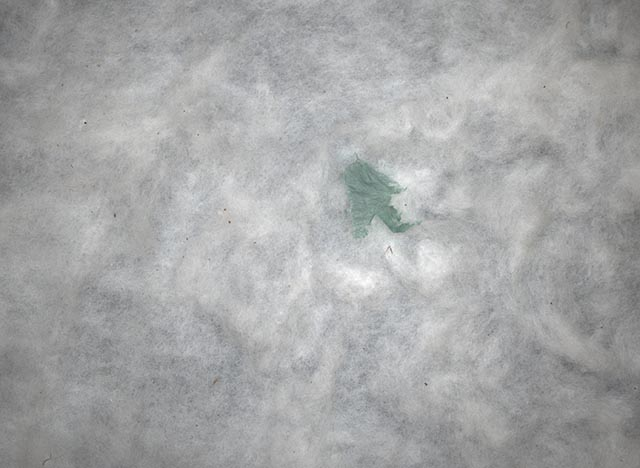plastic film: (344, 152, 422, 240)
